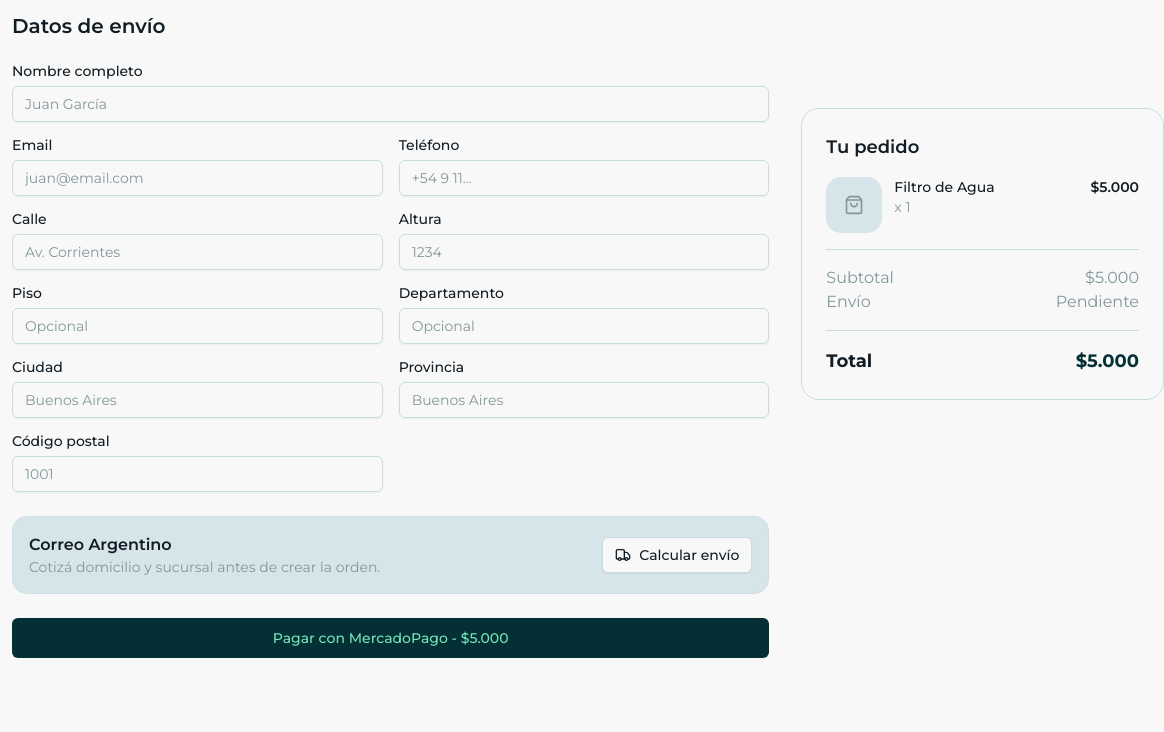
CheckoutForm › shows validation errors when submitting empty form
Click the button "Pagar con MercadoPago - $5.000".
click(391, 638)  # box x1=12 y1=618 x2=769 y2=658
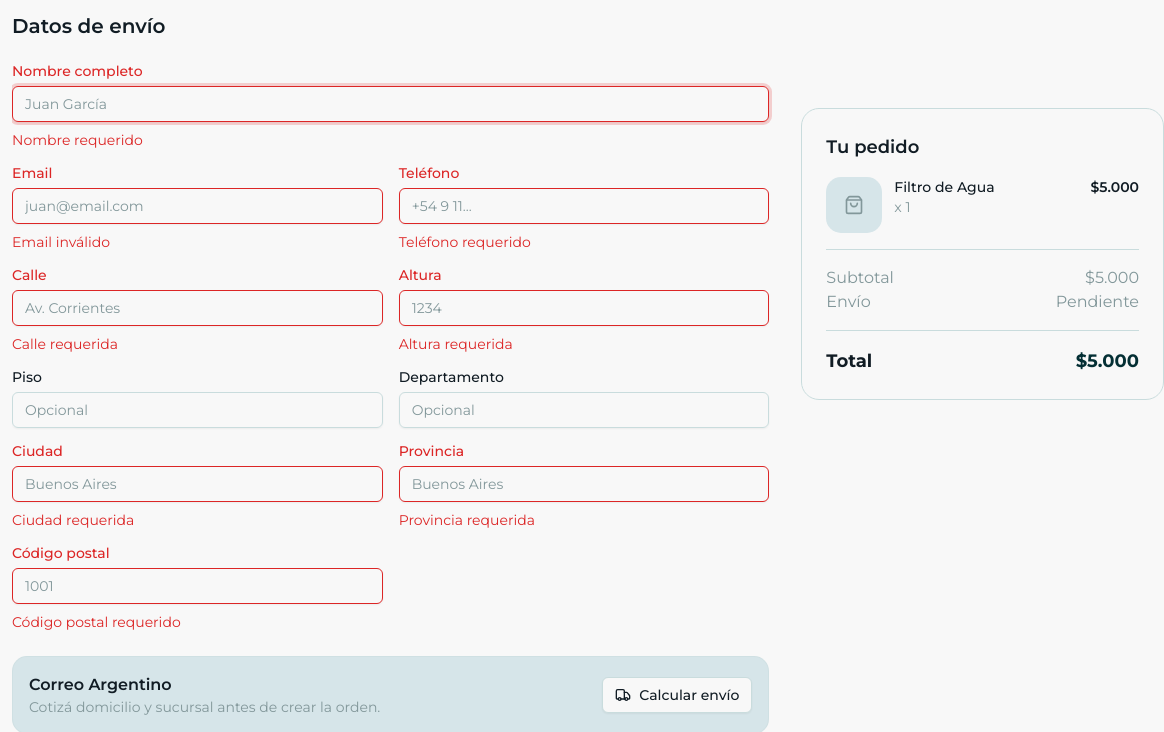
Result: the text "Nombre requerido" is shown at x1=12 y1=131 x2=143 y2=149
